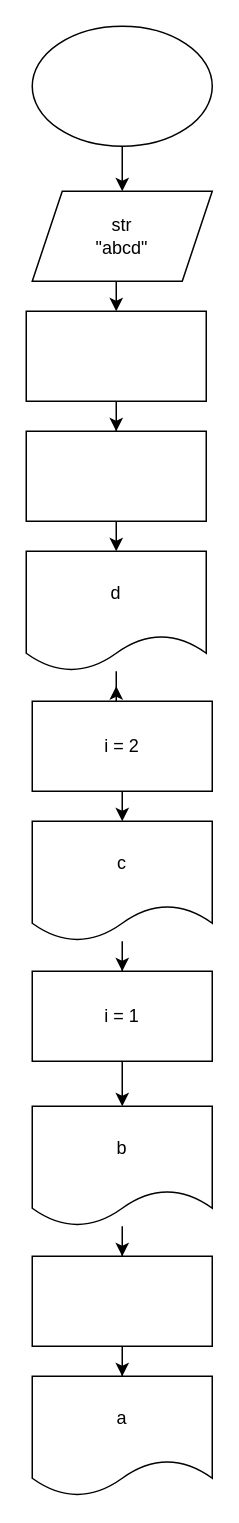
Some shapes in this 239 by 1523 pixel diagram are drawn without their labels. The shapes that lost their labels are listed below. From the top down, each one's centre as x and y in pixels, then its label:
(121,85): Начало
(115,355): len = strlen(str)
(115,475): i = 3
(121,1300): i = 0
